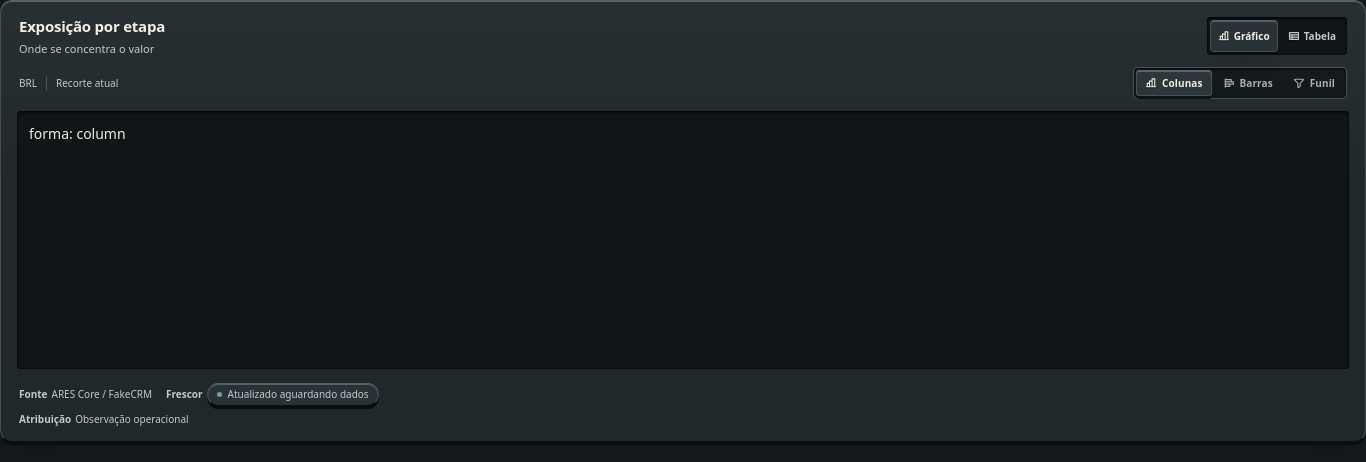
chart form selection › renders the first offered form and switches on demand
Expected: the text with test id "plot" reads "forma: column", [29,124,126,143]
What coordinates should you click on to do the following:
click the button "Funil"
I would click on:
 (1314, 83)
Its box is [1284,70,1344,96].
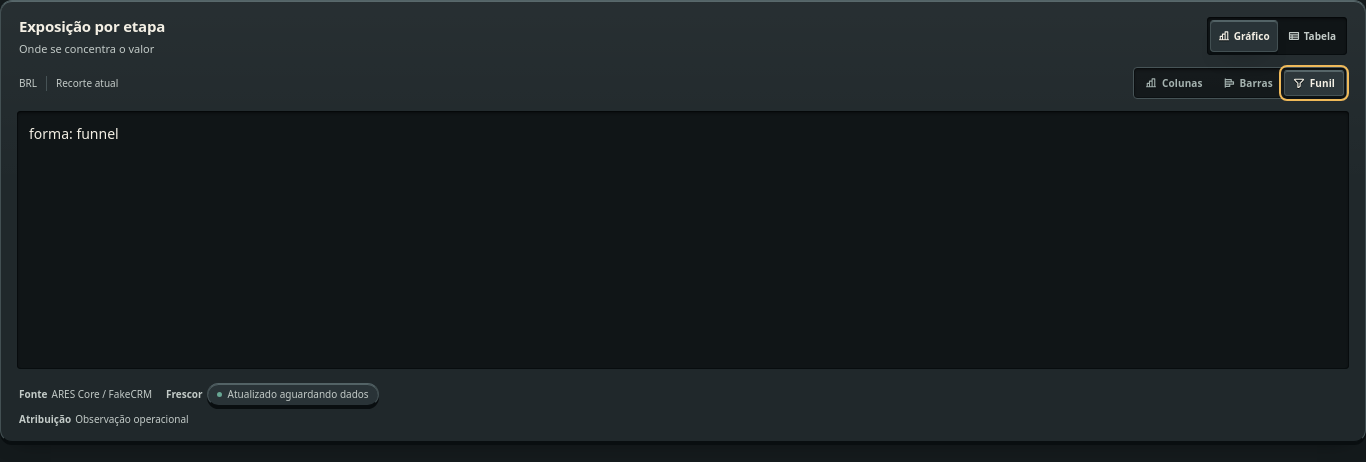
Now the text with test id "plot" reads "forma: funnel", box [29,124,119,143]
